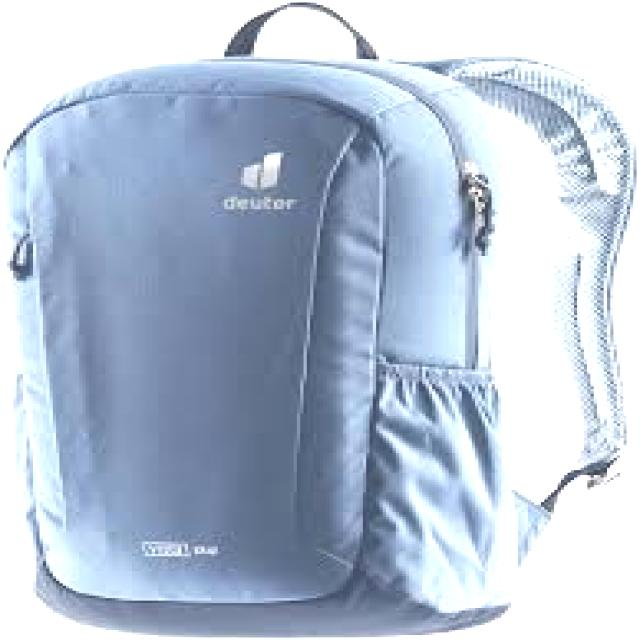backpack: (2, 1, 638, 636)
